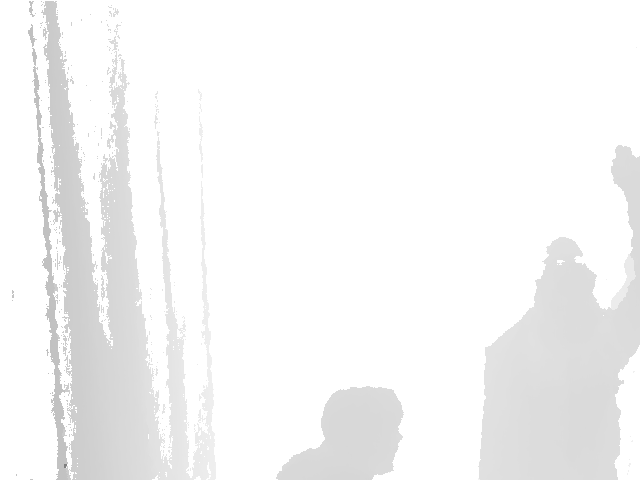hand: (611, 145, 640, 188)
head: (322, 386, 403, 473), (532, 235, 598, 340)
person: (476, 146, 640, 480), (274, 386, 403, 480)
